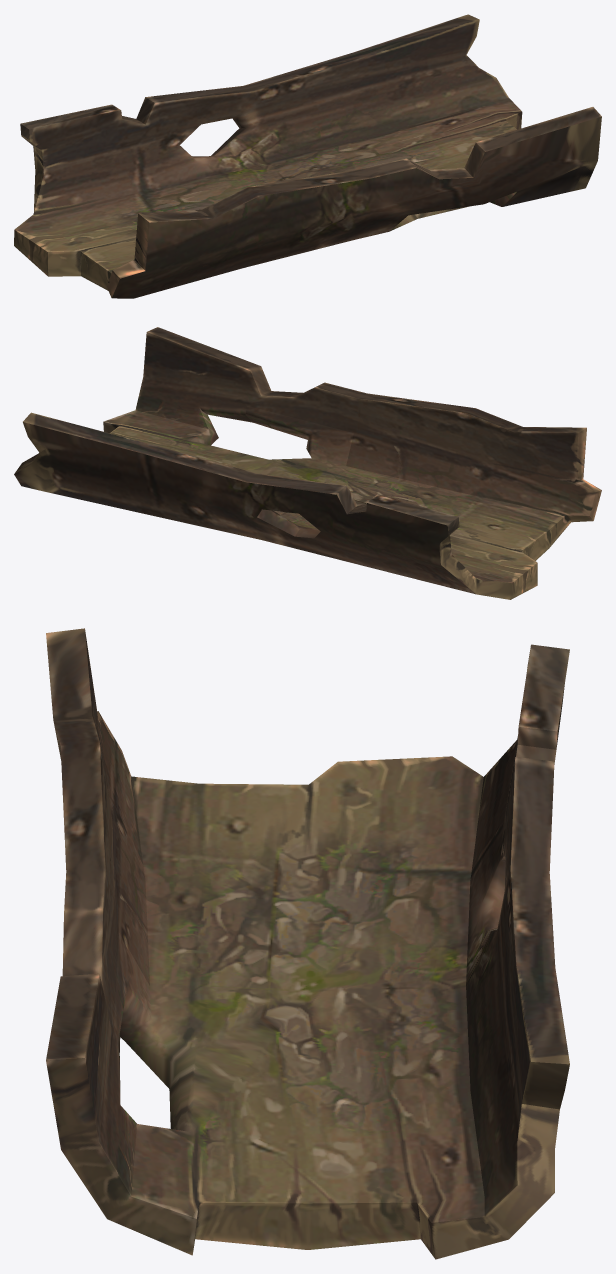
File: gjs_qiao02.FBX
The picture shows the model from 3 angles, top to bottom: view 1: azimuth 30°, elevation 25°; view 2: azimuth 150°, elevation 25°; view 3: azimuth 270°, elevation 25°; orthographic projection. The views are drawn at different scales.
Parts seen in each view (by area): view 1: 对象13, Cylinder03; view 2: 对象13, Cylinder03; view 3: 对象13.
Boxes of the visible parts, x1=… form: 对象13: x1=14, y1=14, x2=601, y2=297; Cylinder03: x1=112, y1=116, x2=601, y2=298; 对象13: x1=14, y1=327, x2=601, y2=599; Cylinder03: x1=14, y1=422, x2=475, y2=594; 对象13: x1=46, y1=628, x2=569, y2=1259.
Bounding box in the file's own units: 1309 × 264 × 622.
